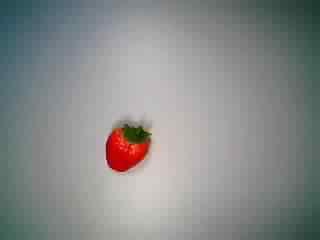strawberry: (93, 115, 161, 179)
